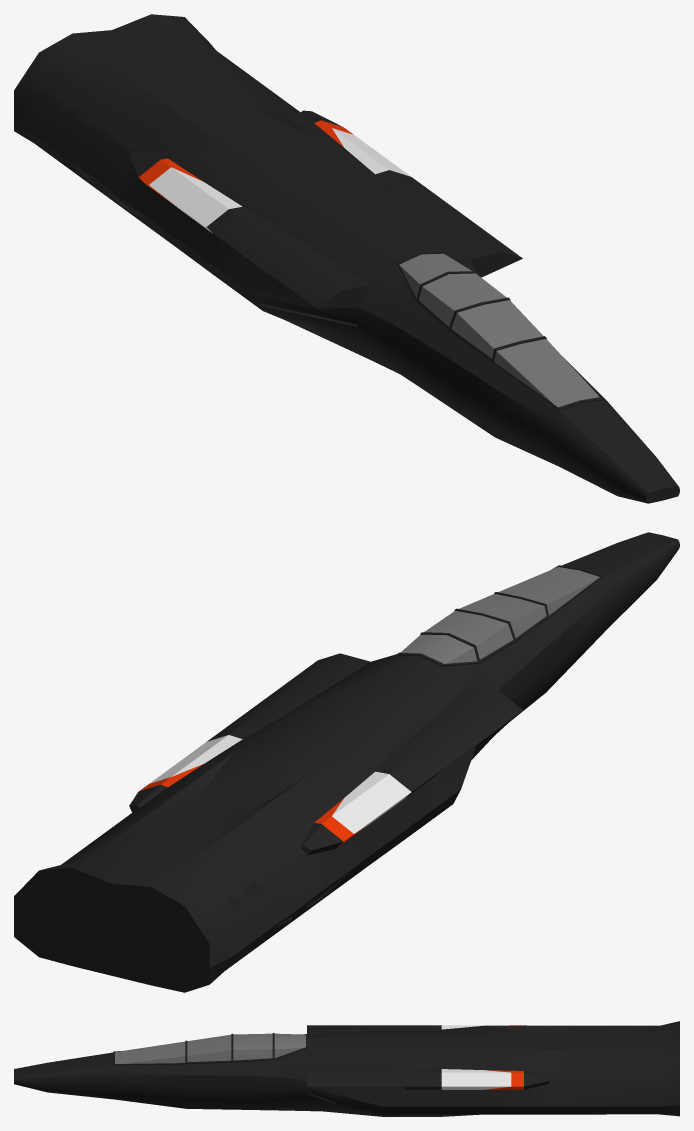
The model's file is 5_Body.fbx.
3 renders of one model, top to bottom at view 1: azimuth 30°, elevation 25°; view 2: azimuth 150°, elevation 25°; view 3: azimuth 270°, elevation 25°, orthographic. The views are drawn at different scales.
Parts seen in each view (by area): view 1: 5_Body; view 2: 5_Body; view 3: 5_Body.
Part boxes in pixels (bbox=[...]): 5_Body: bbox=[14, 14, 679, 503]; 5_Body: bbox=[14, 532, 679, 992]; 5_Body: bbox=[14, 1021, 679, 1116].
Bounding box in the file's own units: 0.5718 × 0.2867 × 2.65.
Materials: 1 (1 with a texture image).
